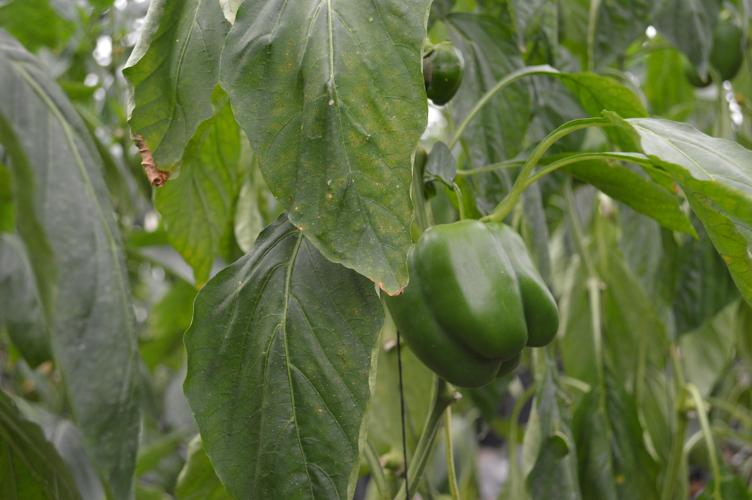BellPepper: (375, 218, 535, 378), (417, 40, 473, 96)
